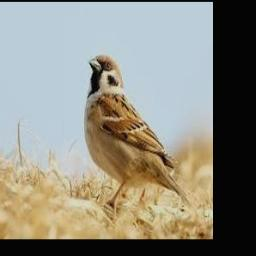Sparrow: (85, 56, 192, 209)
